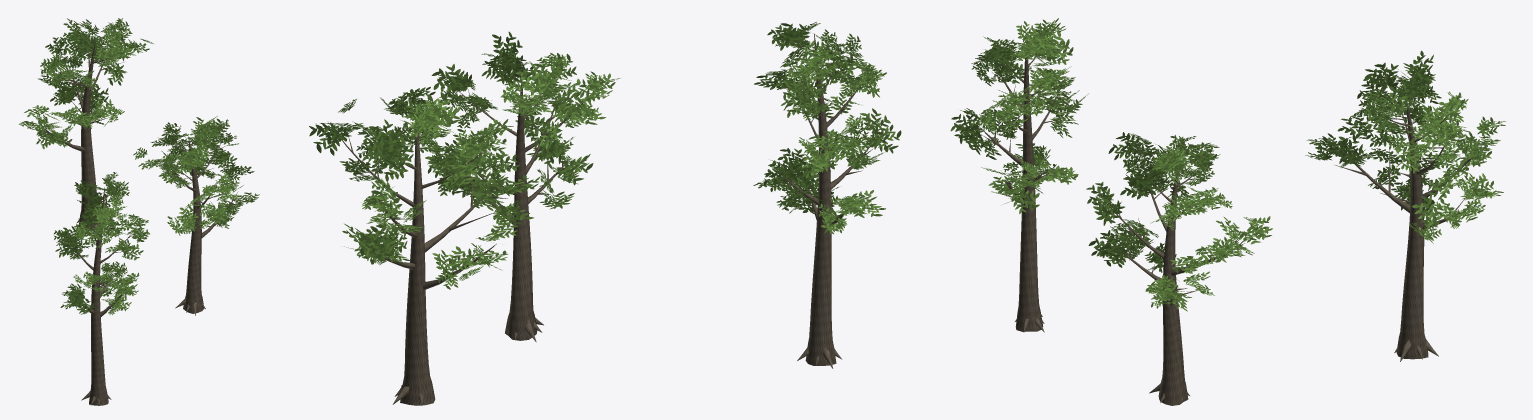
Rendered from Canopy_08_13.glb.
The picture shows the model from 3 angles, left to right: view 1: azimuth 30°, elevation 25°; view 2: azimuth 150°, elevation 25°; view 3: azimuth 270°, elevation 25°; orthographic projection. The views are drawn at different scales.
Parts seen in each view (by area): view 1: Canopy_08_13; view 2: Canopy_08_13; view 3: Canopy_08_13.
Boxes of the visible parts, box(x1,y1,x2,y2) form: Canopy_08_13: box(18, 18, 259, 405); Canopy_08_13: box(309, 22, 901, 405); Canopy_08_13: box(950, 18, 1506, 405).
Bounding box in the file's own units: 22.71 × 20.91 × 30.93.
2 materials, 2 textured.
